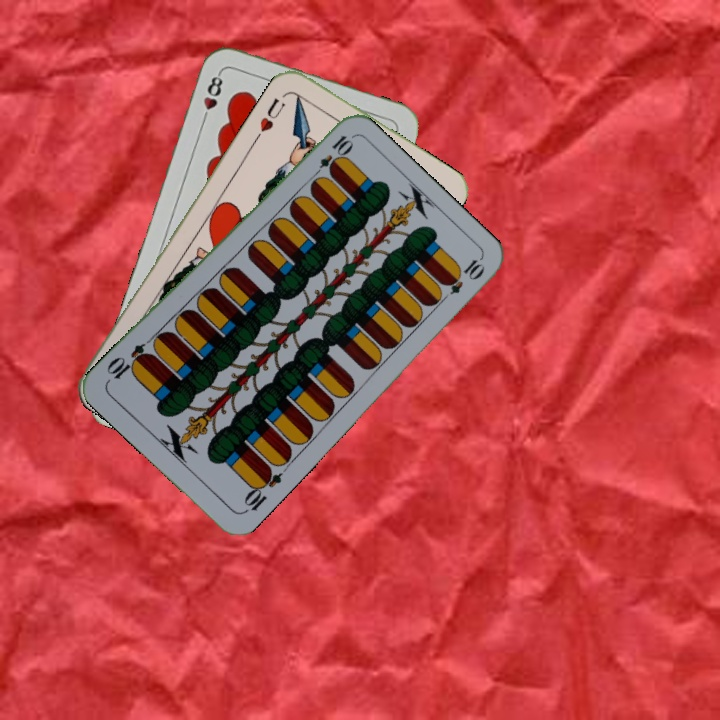E10: (239, 463, 285, 516), (308, 131, 355, 182)
H8: (198, 68, 226, 126)
HU: (255, 94, 288, 135)
